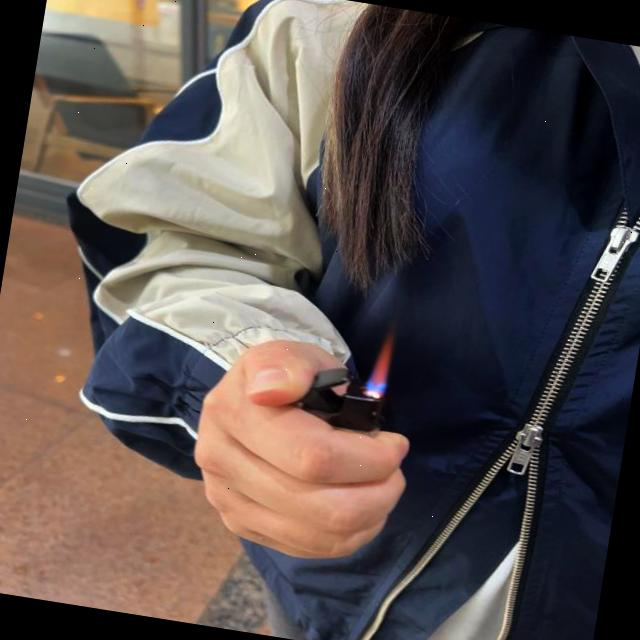fire: (364, 324, 394, 401)
